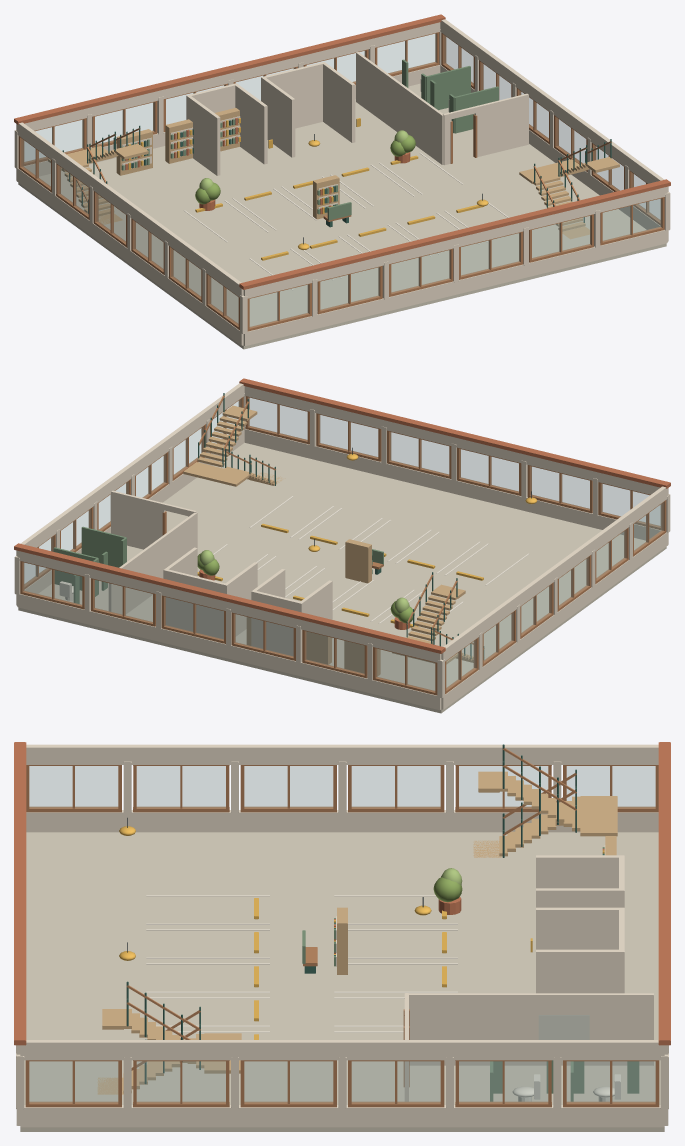
The model's file is campus-B1.glb.
3 views of the same model, one above another, from view 1: azimuth 30°, elevation 25°; view 2: azimuth 150°, elevation 25°; view 3: azimuth 270°, elevation 25° (orthographic). The views are drawn at different scales.
Visible parts, largest first — view 1: Inside_stone_B1, Shell_cream_B1, Shell_glass_B1, Inside_cream_B1, Shell_wood_B1, Shell_clay_B1, Inside_oak_B1, Inside_sage_B1, Inside_ochre_B1, Inside_deep_B1, Inside_ivory_B1, Inside_wood_B1 (+2 smaller); view 2: Inside_stone_B1, Shell_cream_B1, Shell_glass_B1, Shell_wood_B1, Inside_cream_B1, Inside_oak_B1, Shell_clay_B1, Inside_sage_B1, Inside_ivory_B1, Inside_deep_B1, Inside_ochre_B1, Inside_wood_B1 (+1 smaller); view 3: Inside_stone_B1, Shell_cream_B1, Shell_glass_B1, Inside_cream_B1, Shell_wood_B1, Inside_oak_B1, Shell_clay_B1, Inside_ivory_B1, Inside_wood_B1, Inside_sage_B1, Inside_deep_B1, Inside_glass_B1 (+1 smaller).
Part boxes in pixels (x1,y1,x2,y2): Inside_stone_B1: (18, 83, 666, 349); Shell_cream_B1: (14, 19, 670, 345); Shell_glass_B1: (21, 34, 661, 327); Inside_cream_B1: (122, 52, 528, 208); Shell_wood_B1: (18, 32, 664, 331); Shell_clay_B1: (14, 14, 670, 289); Inside_oak_B1: (48, 108, 619, 239); Inside_sage_B1: (121, 59, 498, 220); Inside_ochre_B1: (128, 118, 488, 260); Inside_deep_B1: (62, 120, 611, 227); Inside_ivory_B1: (183, 79, 508, 289); Inside_wood_B1: (76, 114, 611, 221); Inside_stone_B1: (18, 442, 666, 713); Shell_cream_B1: (14, 383, 670, 709); Shell_glass_B1: (23, 398, 663, 691); Shell_wood_B1: (20, 396, 666, 695); Inside_cream_B1: (108, 490, 332, 655); Inside_oak_B1: (183, 405, 473, 676); Shell_clay_B1: (14, 378, 670, 653); Inside_sage_B1: (53, 526, 383, 603); Inside_ivory_B1: (59, 496, 529, 633); Inside_deep_B1: (198, 393, 484, 659); Inside_ochre_B1: (197, 453, 537, 627); Inside_wood_B1: (162, 395, 484, 648); Inside_stone_B1: (20, 832, 664, 1131); Shell_cream_B1: (16, 744, 668, 1127); Shell_glass_B1: (29, 766, 655, 1102); Inside_cream_B1: (336, 845, 653, 1101); Shell_wood_B1: (25, 765, 659, 1107); Inside_oak_B1: (97, 771, 617, 1094); Shell_clay_B1: (14, 742, 670, 1045); Inside_ivory_B1: (146, 895, 620, 1101); Inside_wood_B1: (126, 748, 576, 1086); Inside_sage_B1: (302, 847, 639, 1101); Inside_deep_B1: (126, 744, 604, 1083); Inside_glass_B1: (539, 1015, 589, 1039).
Size of the model in its own units: 26.3 by 4.94 by 24.46.
